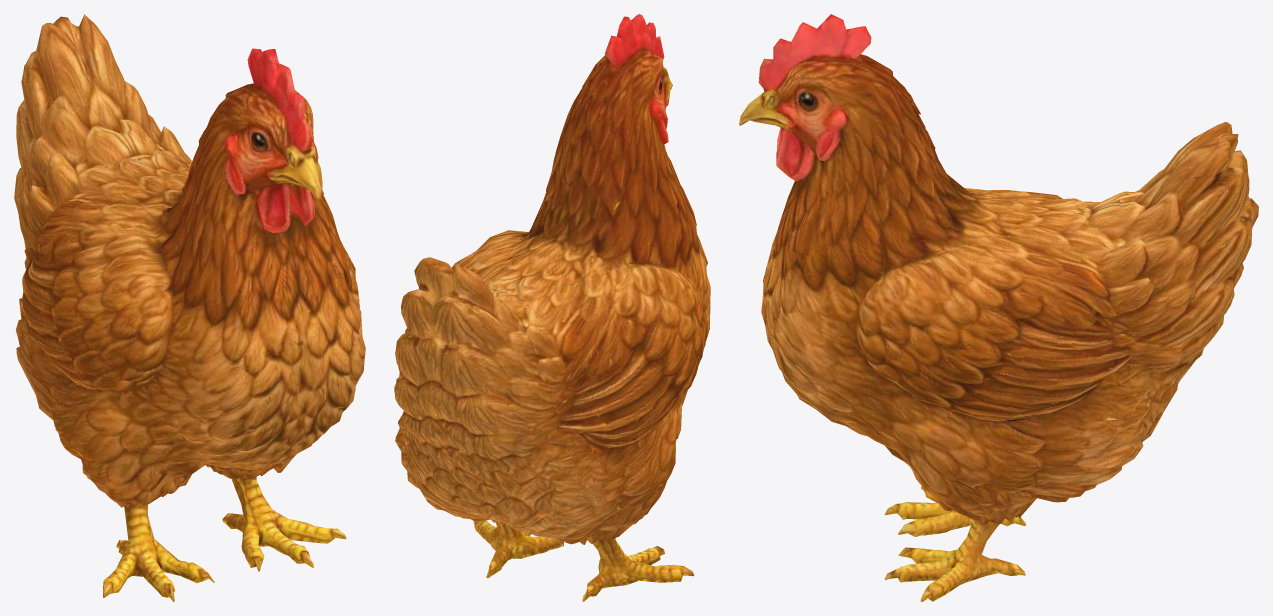
File: chicken.glb
3 views of the same model, side by side, from view 1: azimuth 30°, elevation 25°; view 2: azimuth 150°, elevation 25°; view 3: azimuth 270°, elevation 25° (orthographic). The views are drawn at different scales.
Size of the model in its own units: 0.9723 by 1.9 by 1.66.
Materials: 1 (1 with a texture image).
